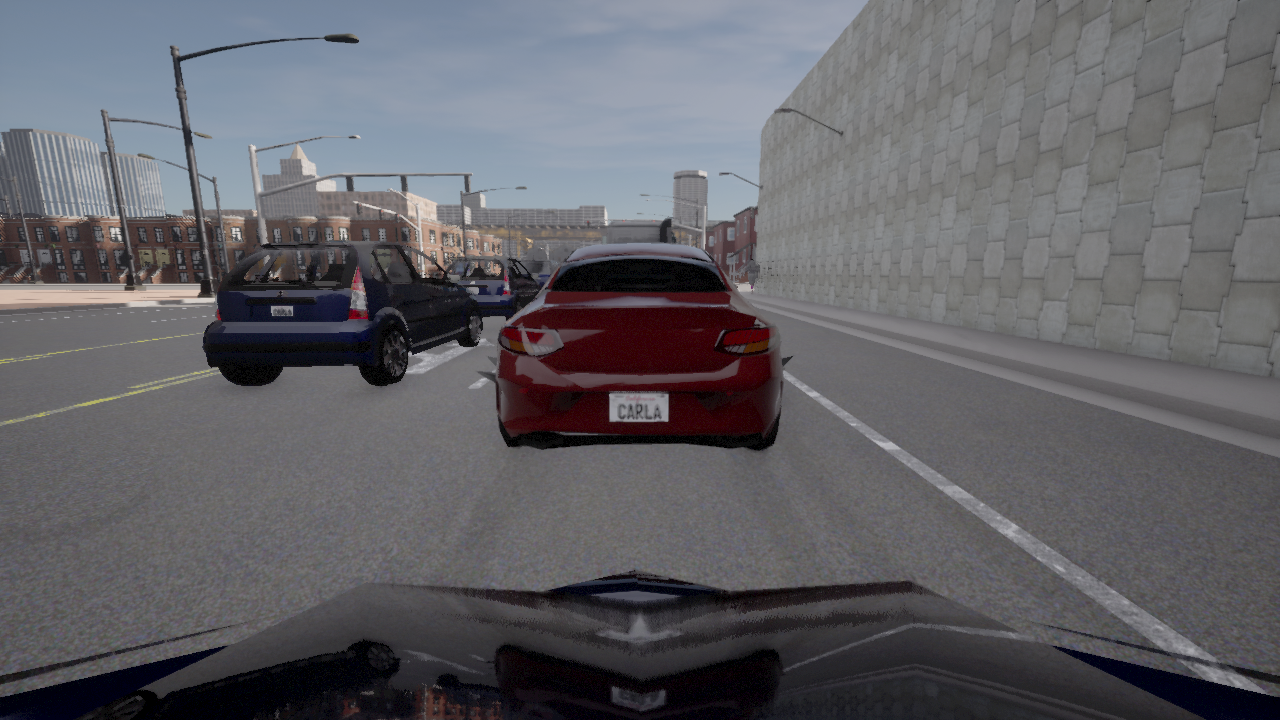cyclist: (0, 569, 1279, 719), (475, 243, 793, 450), (204, 239, 484, 384), (446, 256, 541, 320), (602, 218, 675, 243), (519, 258, 559, 285)
pedestrian: (745, 257, 759, 294)
